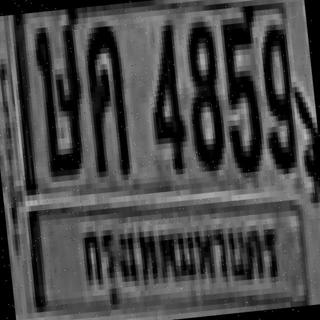A04: (81, 20, 130, 172)
A39: (30, 14, 89, 172)
N04: (140, 14, 187, 171)
N05: (215, 6, 268, 174)
N08: (179, 15, 225, 167)
N09: (254, 19, 300, 170)
P04: (73, 195, 286, 312)
